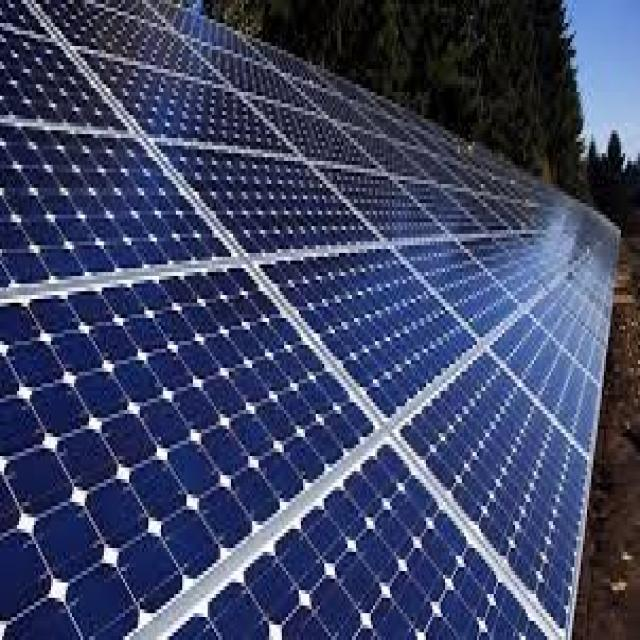clean-solar-panel: (1, 0, 616, 635)
